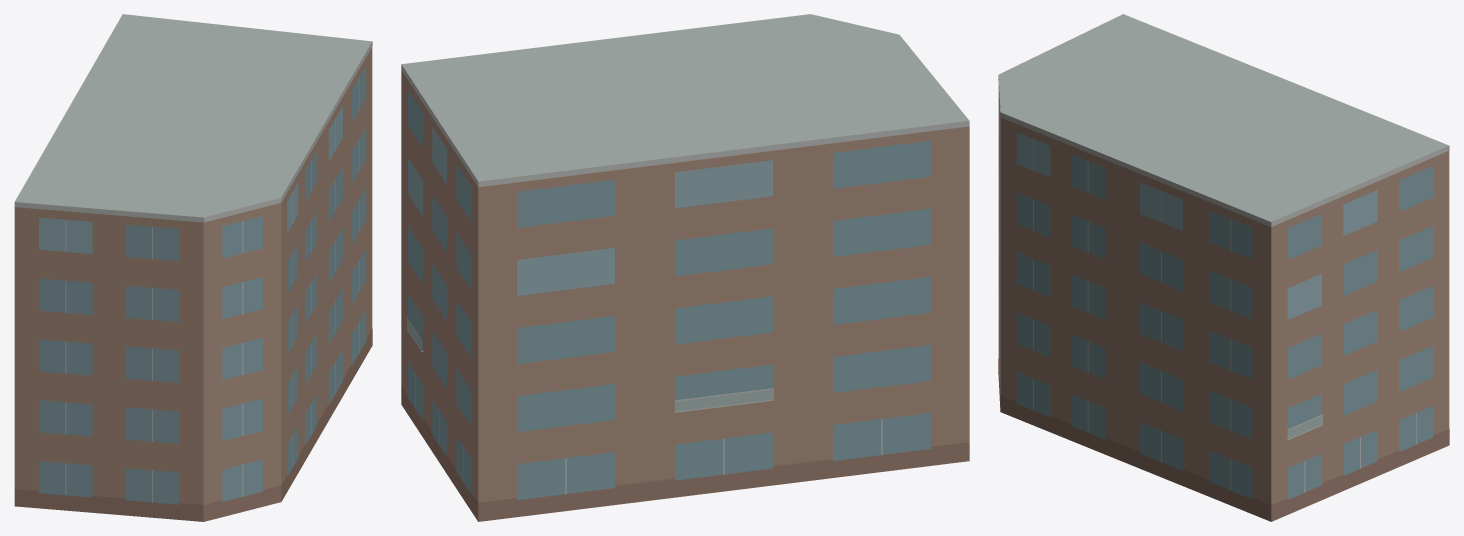
Rendered from survey-upis-32638998.glb.
3 views of the same model, side by side, from view 1: azimuth 30°, elevation 25°; view 2: azimuth 150°, elevation 25°; view 3: azimuth 270°, elevation 25° (orthographic). The views are drawn at different scales.
Parts seen in each view (by area): view 1: survey-upis-32638998.tmp; view 2: survey-upis-32638998.tmp; view 3: survey-upis-32638998.tmp.
Boxes of the visible parts, x1,y1,x2,y2 form: survey-upis-32638998.tmp: (14,14,372,521); survey-upis-32638998.tmp: (401,14,969,521); survey-upis-32638998.tmp: (998,14,1449,521).
Bounding box in the file's own units: 21.9 × 14.7 × 20.05.
